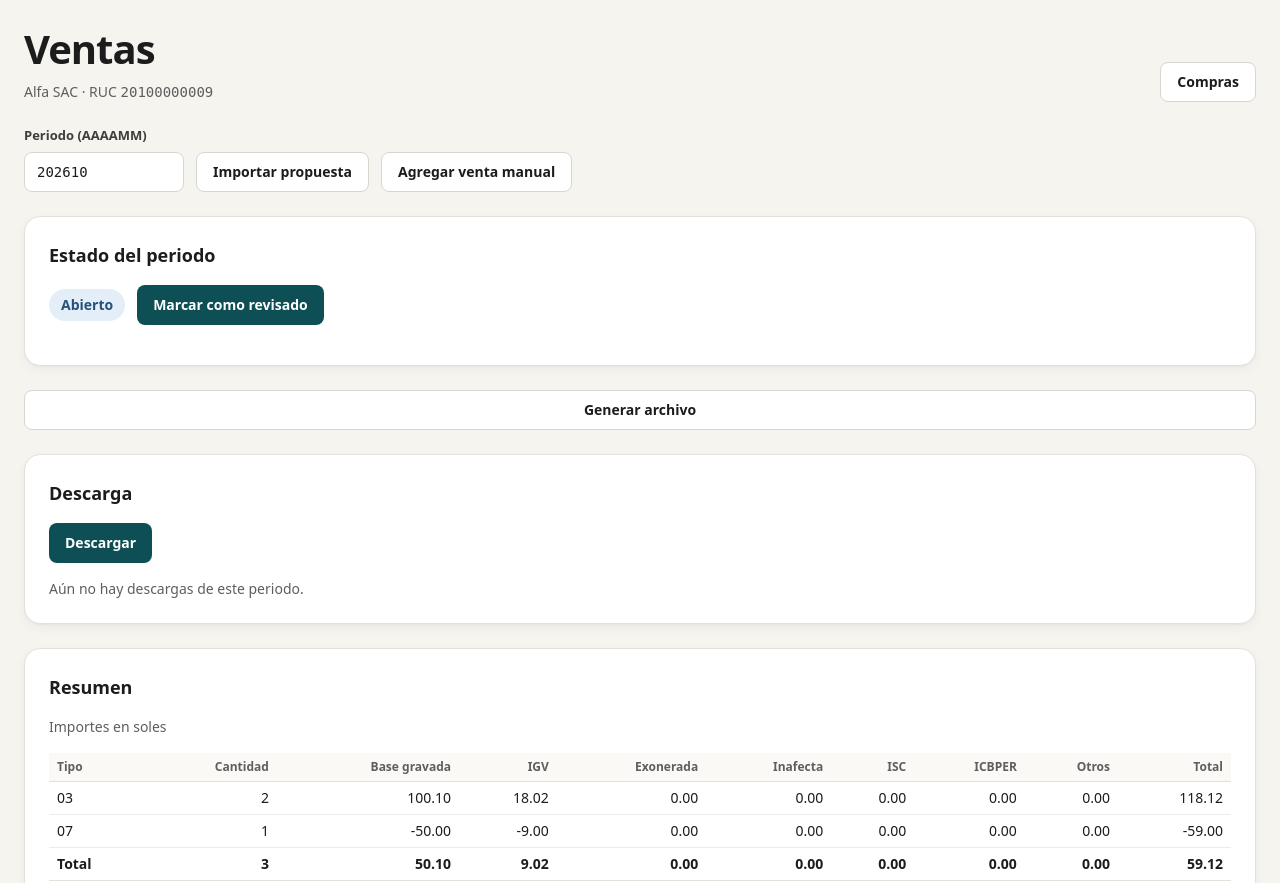
Scenario: Ventas · estado del periodo y escrituras (spec 012b T15, P-1, P-9, CA-10) › el 409 periodo_generado de una escritura se explica con el motivo del estado
Click the button "Descargar".
click(101, 542)  # box 49,522 -> 152,562
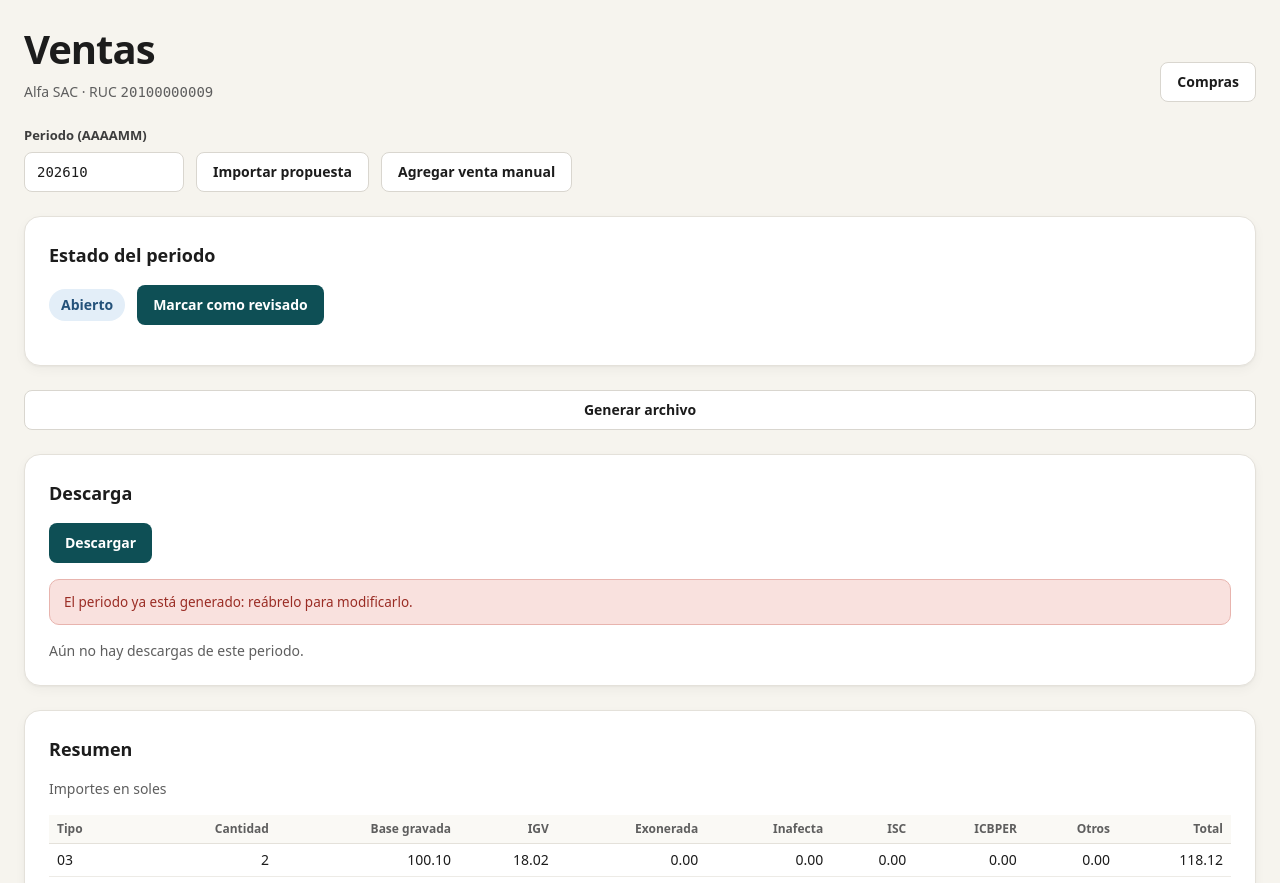
Expected: the text "El periodo ya está generado: reábrelo para modificarlo." is shown, 49,578 -> 1231,625
